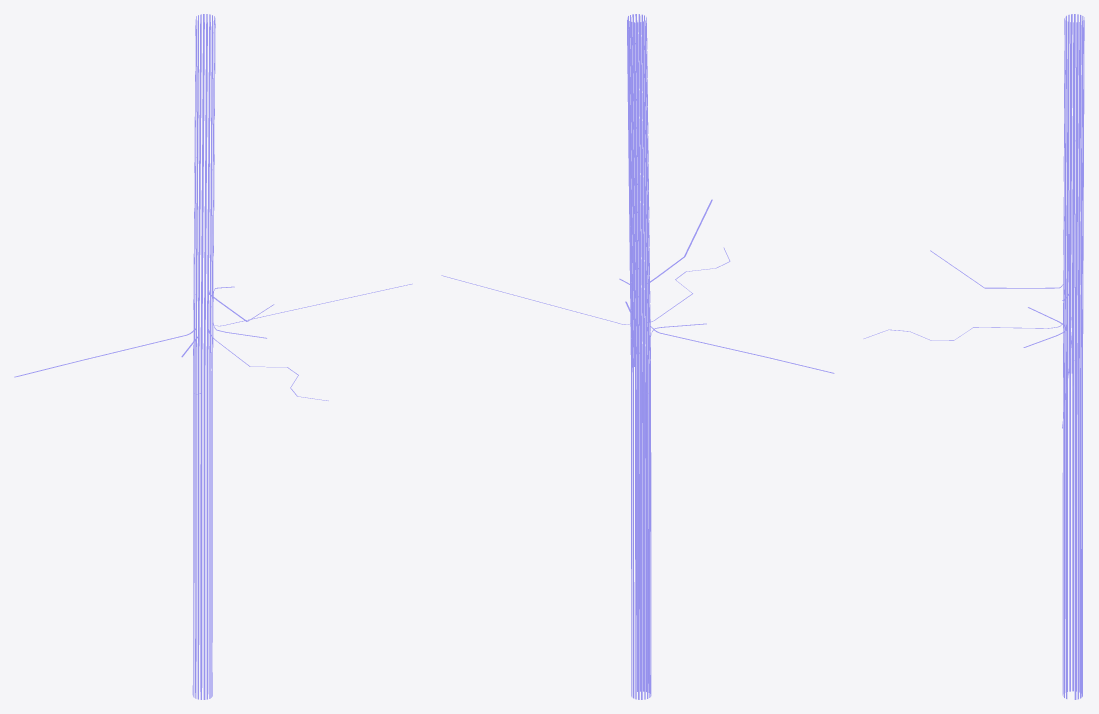
3 renders of one model, left to right at view 1: azimuth 30°, elevation 25°; view 2: azimuth 150°, elevation 25°; view 3: azimuth 270°, elevation 25°, orthographic.
Visible parts, largest first — view 1: polySurface472; view 2: polySurface472; view 3: polySurface472.
Boxes of the visible parts, x1,y1,x2,y2 form: polySurface472: (14,14,412,699); polySurface472: (441,14,834,699); polySurface472: (863,14,1084,699).
Bounding box in the file's own units: 21973 × 35924 × 10602.
